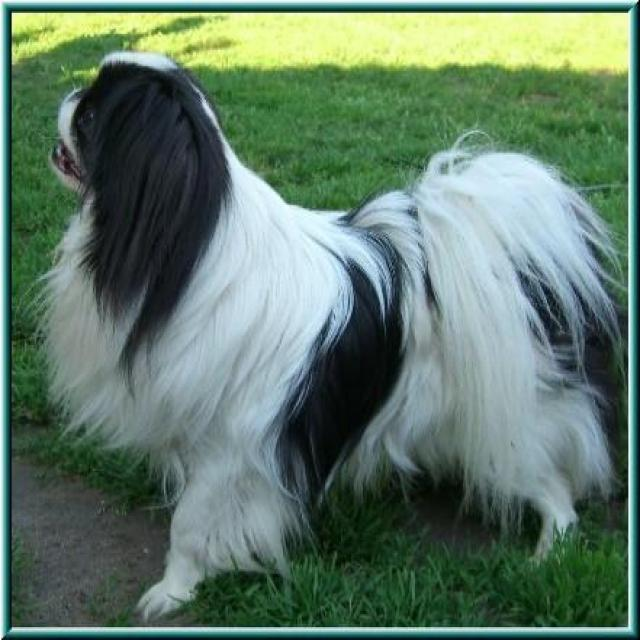husky: (13, 48, 628, 621)
